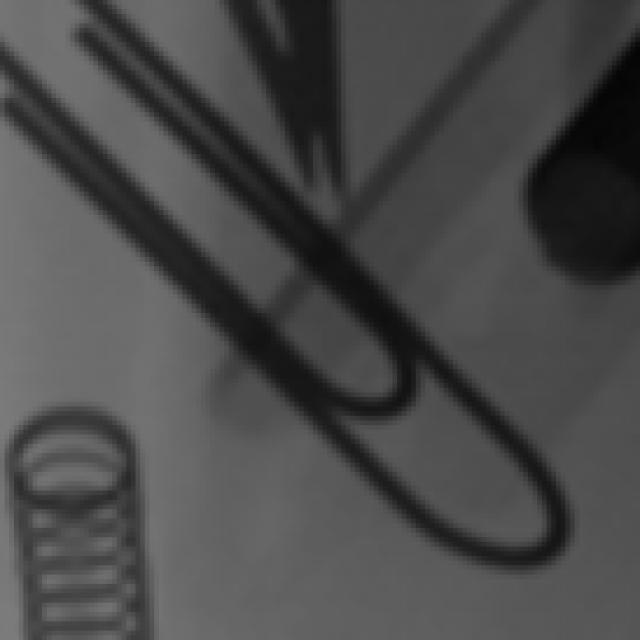BLADE: (239, 1, 356, 188)
